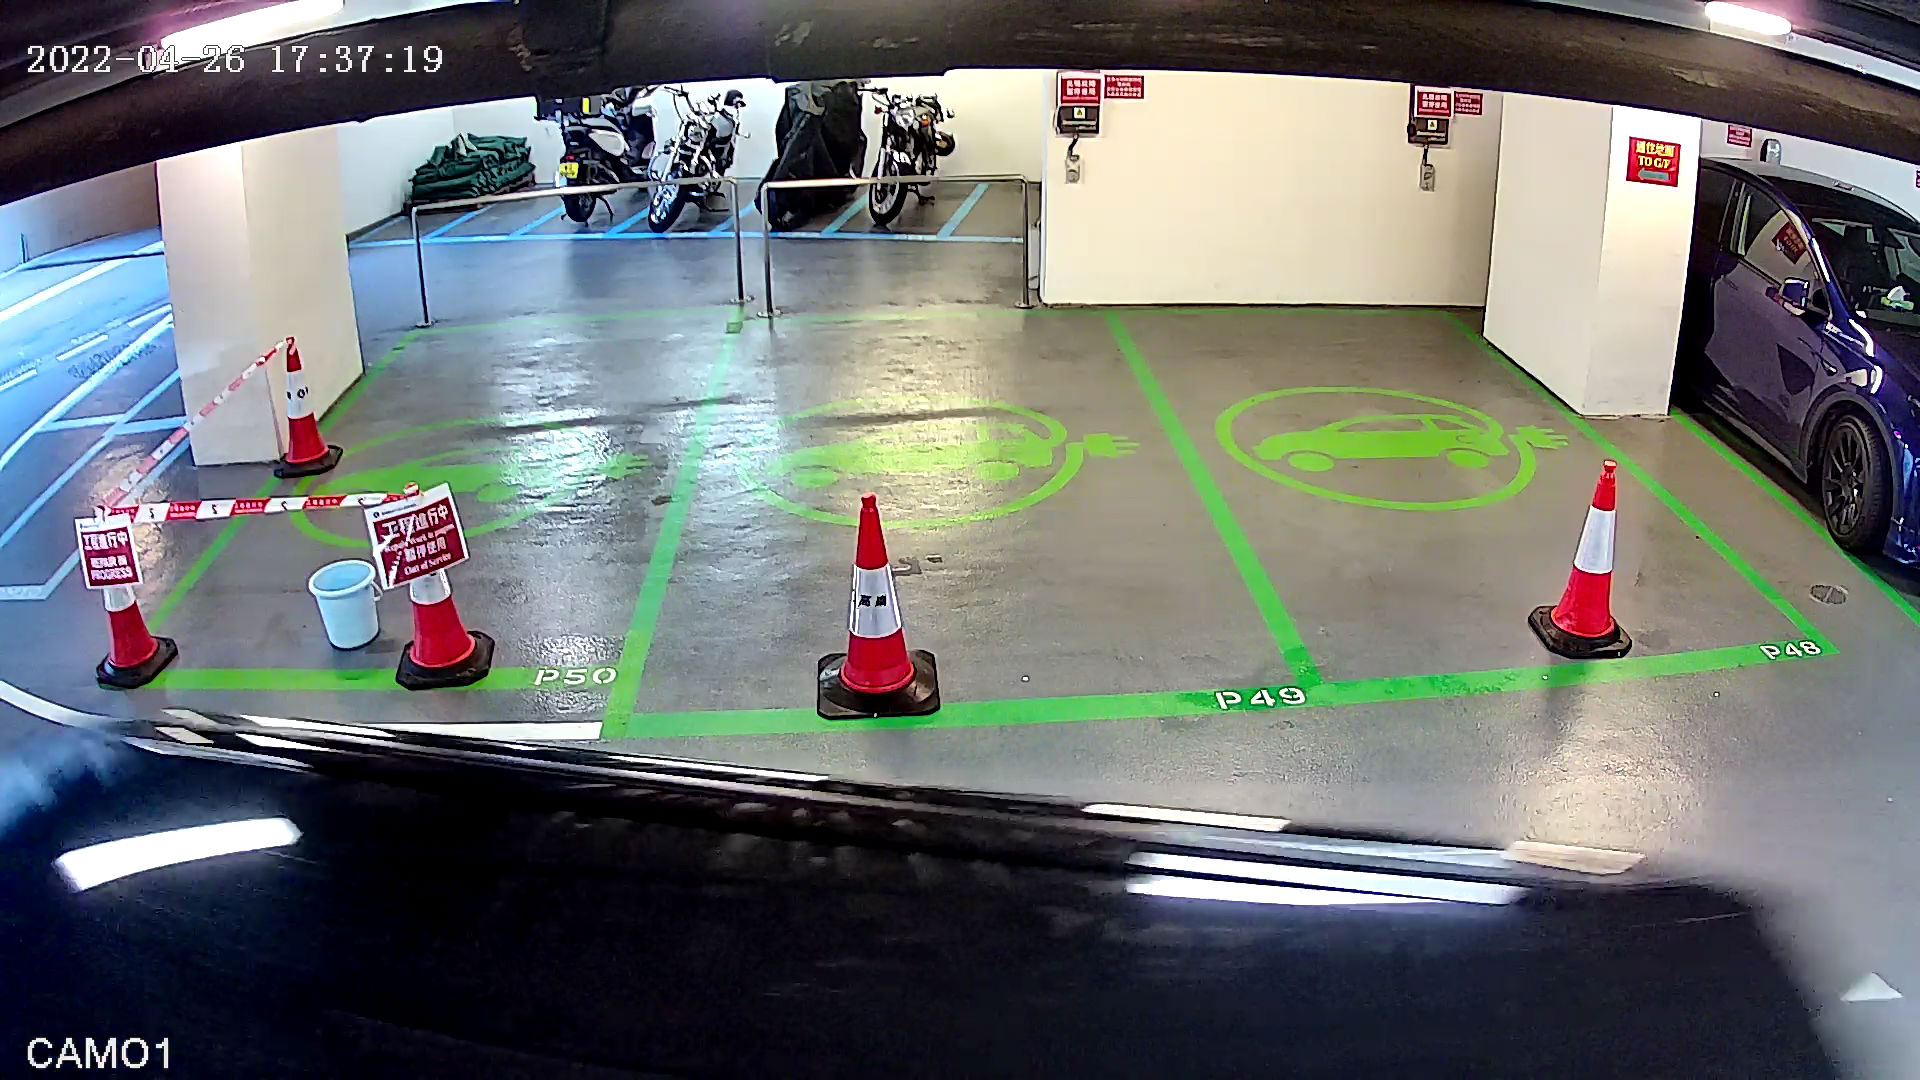space: (1093, 264, 1855, 731), (599, 277, 1341, 753)
